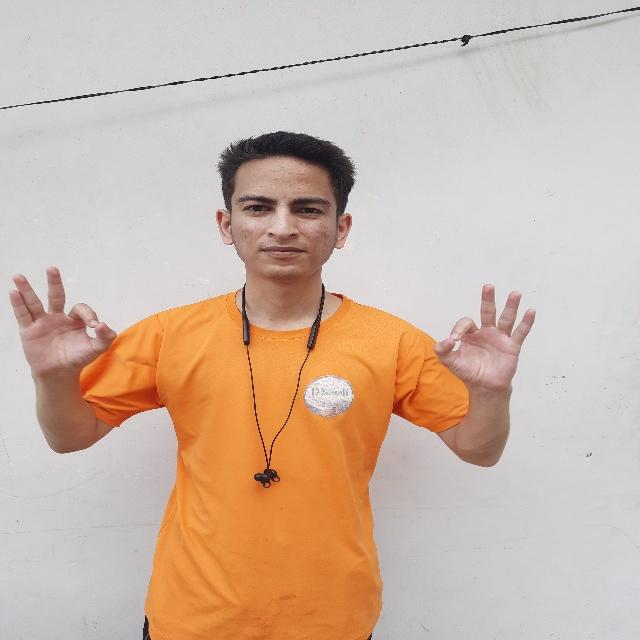Okay: (5, 262, 122, 392), (432, 278, 544, 402)
